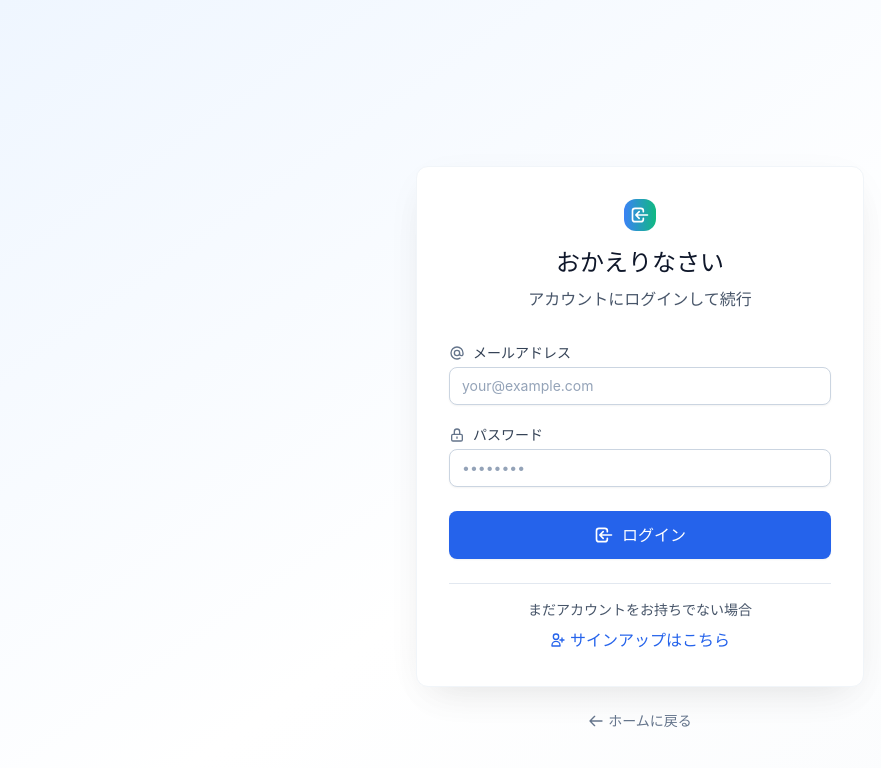
Test: LoginForm › フォーム入力 › 空の値でフォーム送信しようとするとバリデーションエラーが表示される
The image size is (881, 768).
Click the button "ログイン": {"x": 640, "y": 534} [449,510,831,558]
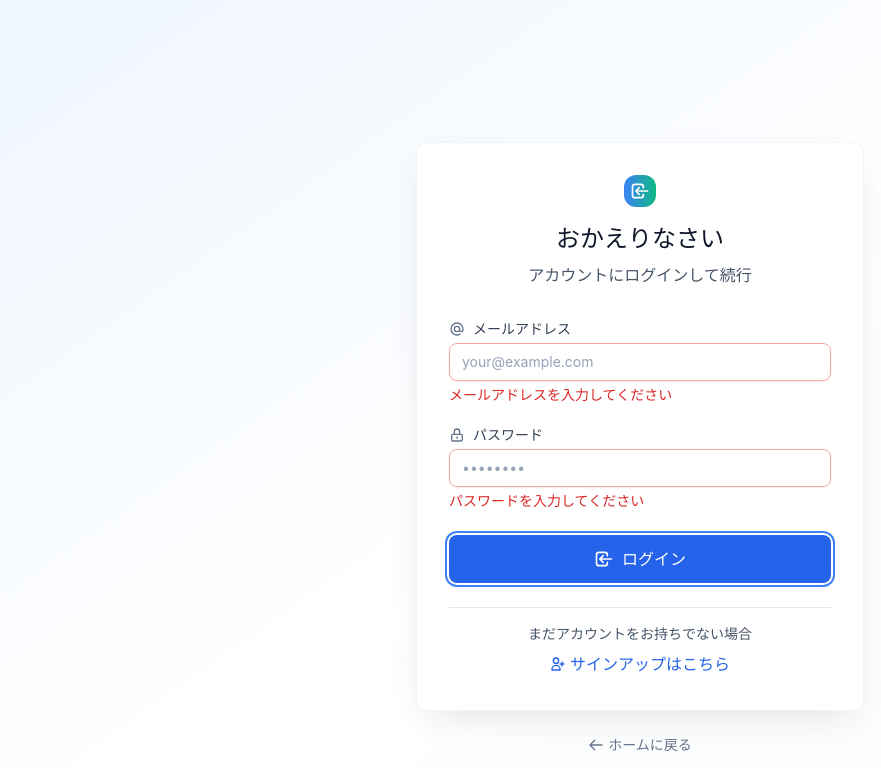
Check: the text "メールアドレスを入力してください" is shown, box [449,386,672,402]
Check: the text "パスワードを入力してください" is shown, box [449,492,644,508]
